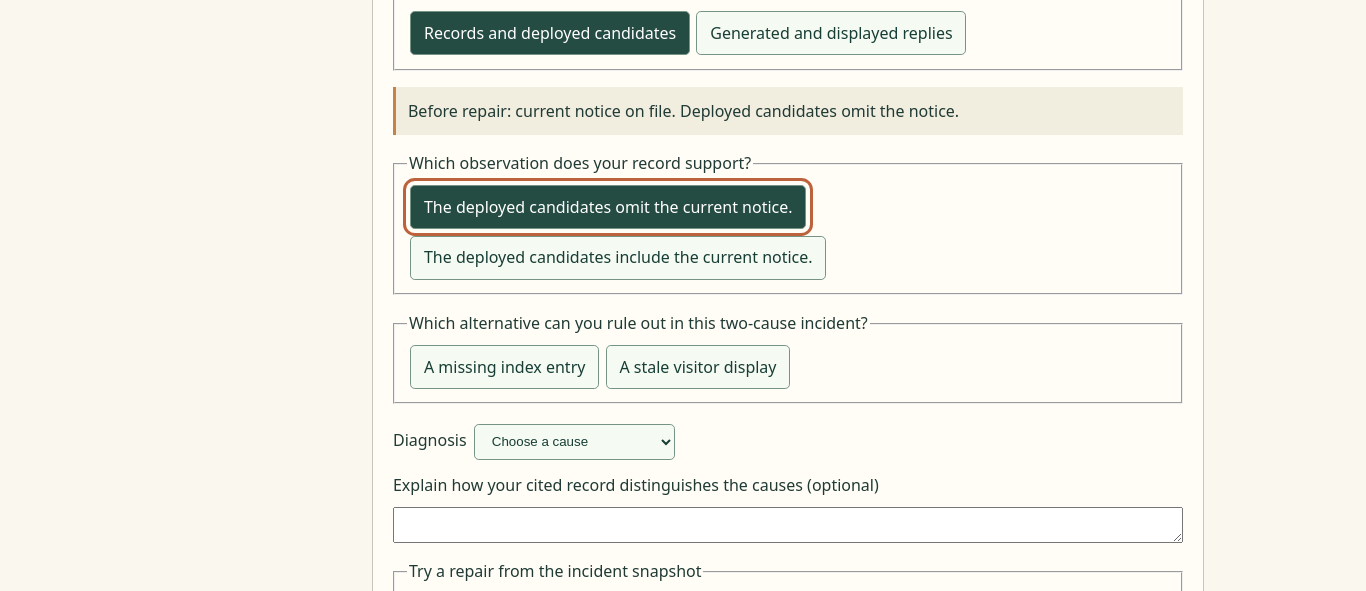
it: diagnoses and verifies index incident
Earlier steps of the test are not shown.
Later steps or results of the test are not shown.
(page scrolled)
Click the button "A stale visitor display".
click(698, 367)  # box [606,345,790,389]
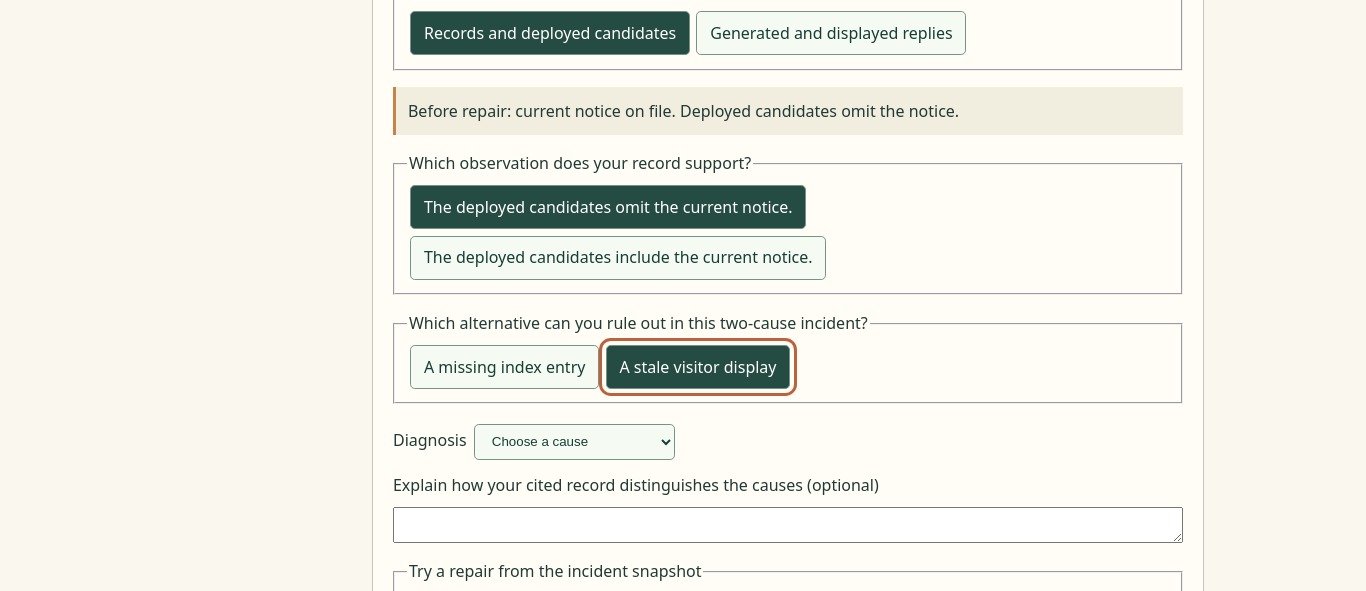
Select "Missing indexed evidence" in the dropdown at (574, 442), box [474,424,675,460]
(page scrolled)
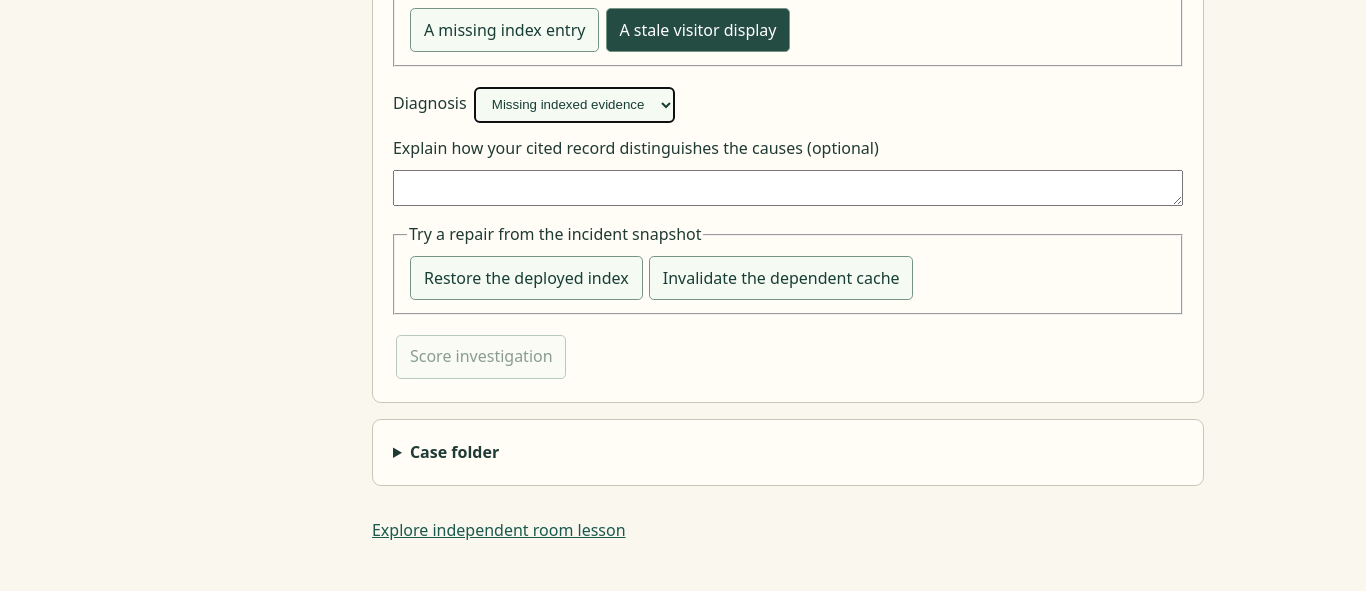
Click the button "Restore the deployed index".
click(526, 278)  # box [410,256,643,300]
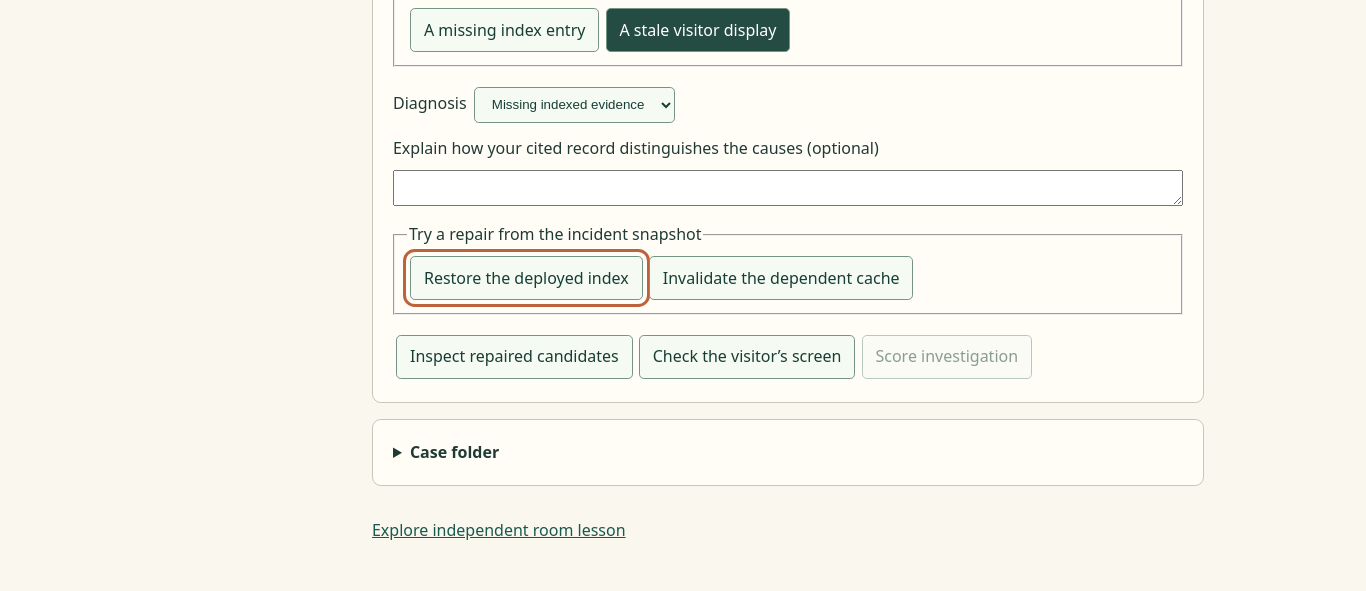
Click the button "Inspect repaired candidates".
click(514, 357)  # box [396,335,633,379]
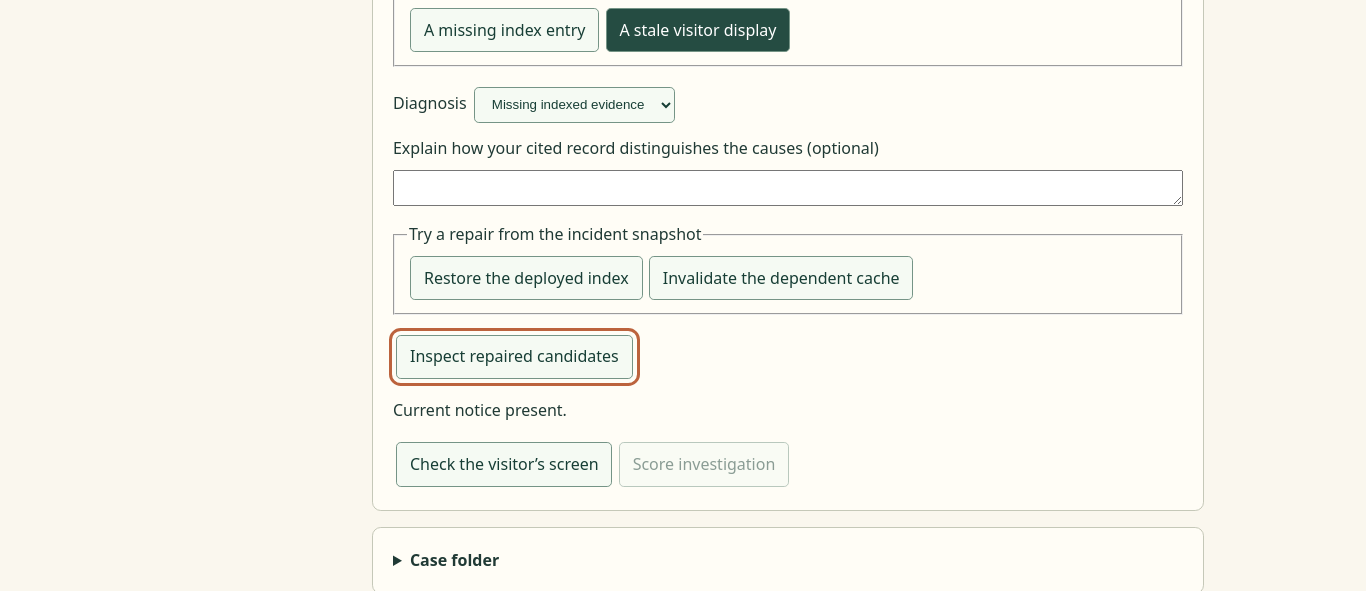
Click the button "Check the visitor’s screen".
click(504, 464)  # box [396,442,612,487]
(page scrolled)
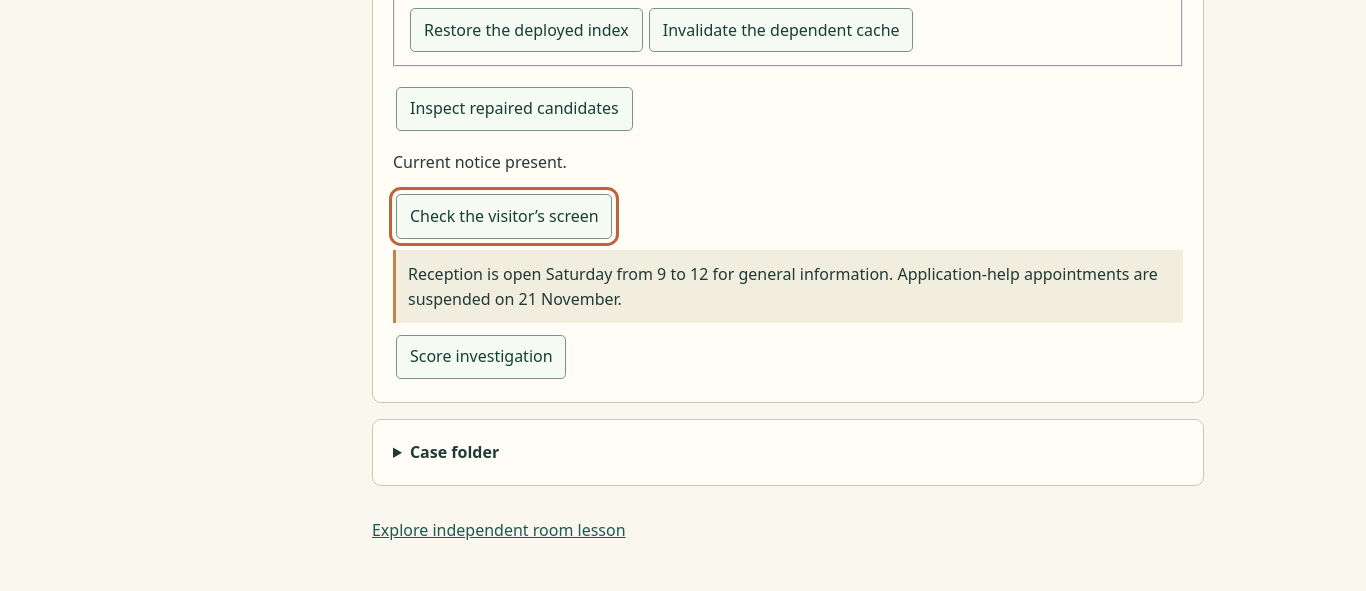
Click the button "Score investigation".
click(481, 357)  # box [396,335,566,379]
(page scrolled)
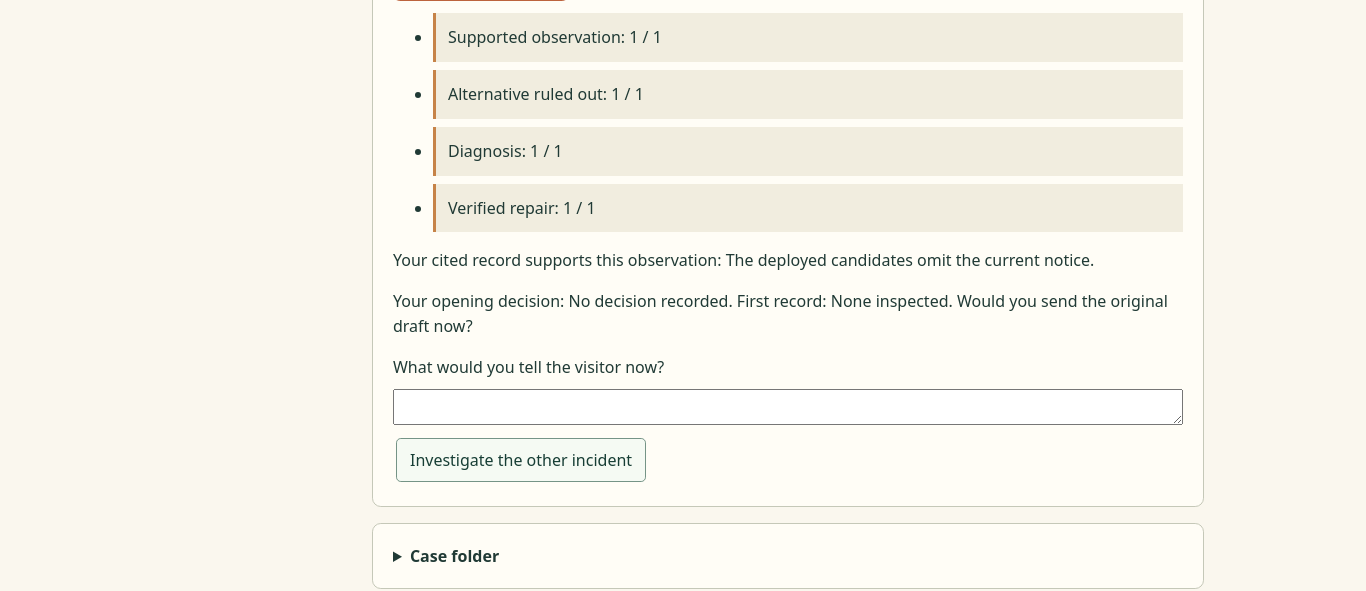
Expected: the list item "Verified repair: 1 / 1" is shown, [433,184,1183,232]
